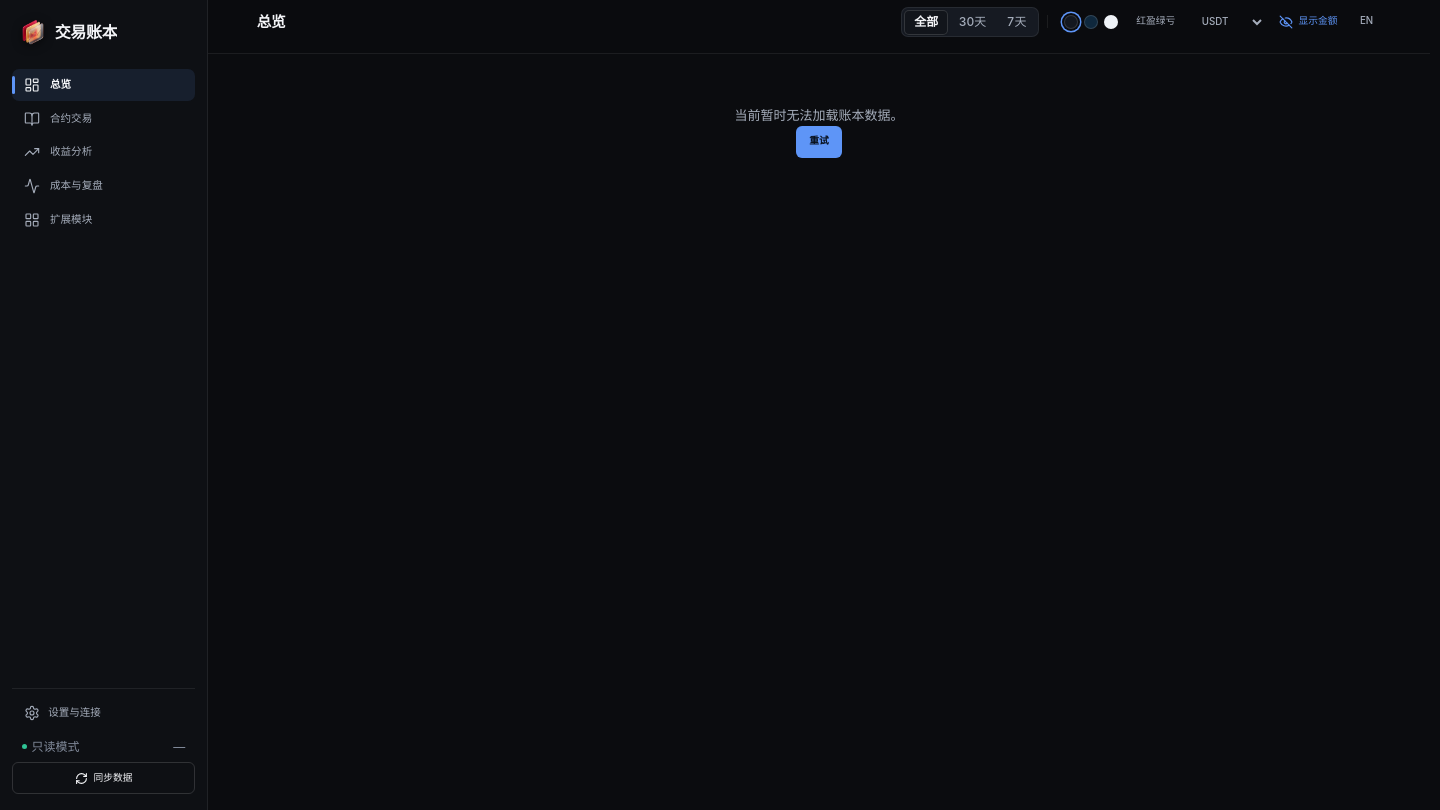
State Sync, Bootstrap Recovery, Scope Isolation & Journal Concurrency › renders an explicit Retry button instead of staying stuck on Loading when initial dashboard 503s
The image size is (1440, 810).
Click the button with test id "dashboard-retry-btn" at [819, 142], box [796, 126, 842, 158]
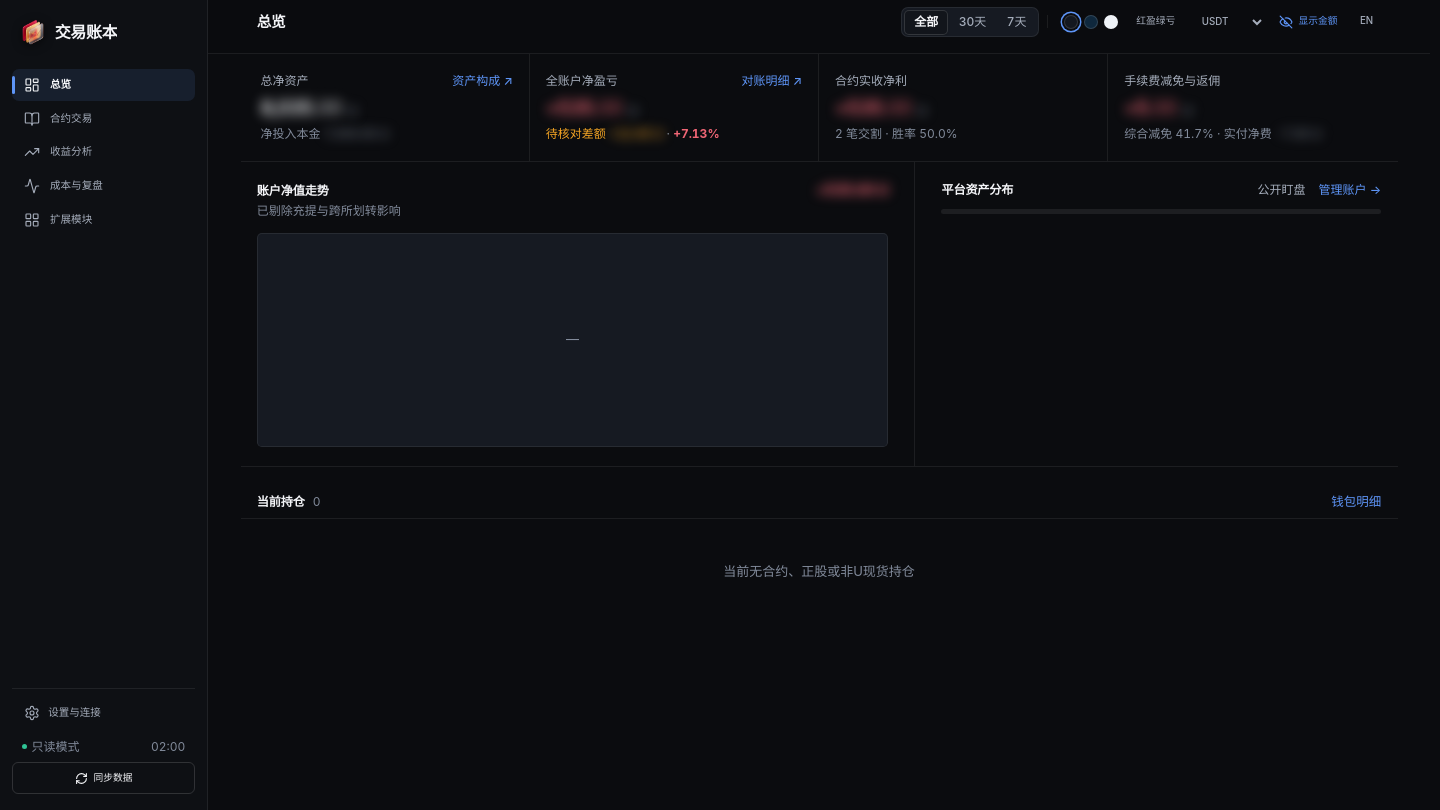
Now the button with test id "dashboard-retry-btn" is gone
